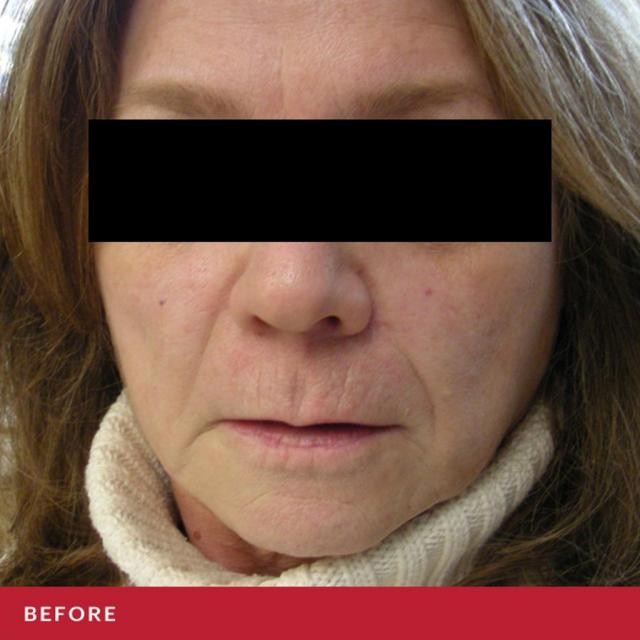nomask: (98, 5, 568, 557)
